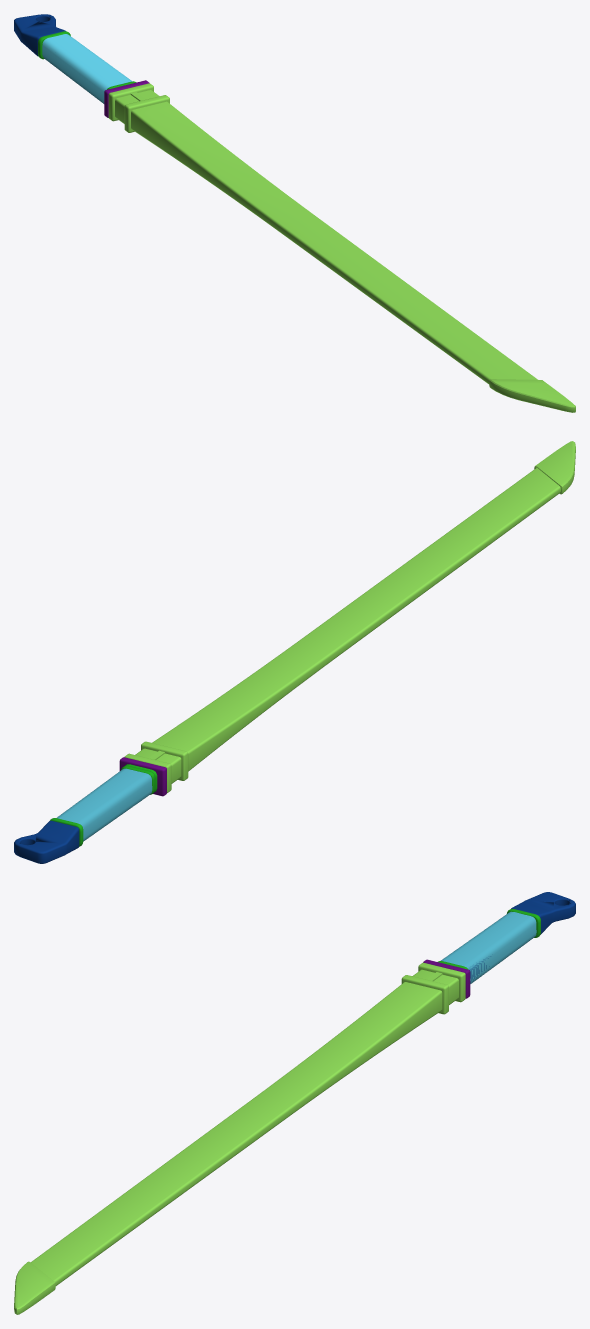
Rendered from LB's Sword.obj.
3 renders of one model, top to bottom at view 1: azimuth 30°, elevation 25°; view 2: azimuth 150°, elevation 25°; view 3: azimuth 330°, elevation 25°, orthographic. The views are drawn at different scales.
Parts seen in each view (by area): view 1: Box009, Spring001, Box011, Cylinder001, Box008; view 2: Box009, Spring001, Cylinder001, Box011, Box007, Box010; view 3: Box009, Spring001, Box011, Cylinder001, Box008, Box010.
Part boxes in pixels (x1,y1,x2,y2): Box009: (115, 90, 537, 384); Spring001: (42, 34, 132, 103); Box011: (489, 379, 575, 412); Cylinder001: (14, 14, 65, 56); Box008: (108, 83, 153, 121); Box009: (135, 468, 560, 783); Spring001: (57, 768, 152, 841); Cylinder001: (14, 820, 79, 863); Box011: (534, 441, 575, 494); Box007: (119, 757, 166, 796); Box010: (141, 741, 188, 780); Box009: (31, 969, 458, 1285); Spring001: (440, 911, 536, 983); Box011: (14, 1261, 55, 1314); Cylinder001: (511, 892, 575, 934); Box008: (418, 962, 465, 1002); Box010: (401, 975, 448, 1014).
Size of the model in its own units: 13.51 by 7.33 by 272.
